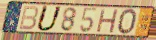5: (78, 7, 99, 35)
8: (60, 6, 78, 33)
B: (18, 5, 40, 32)
H: (95, 8, 120, 35)
O: (116, 8, 138, 36)
U: (35, 5, 64, 33)
